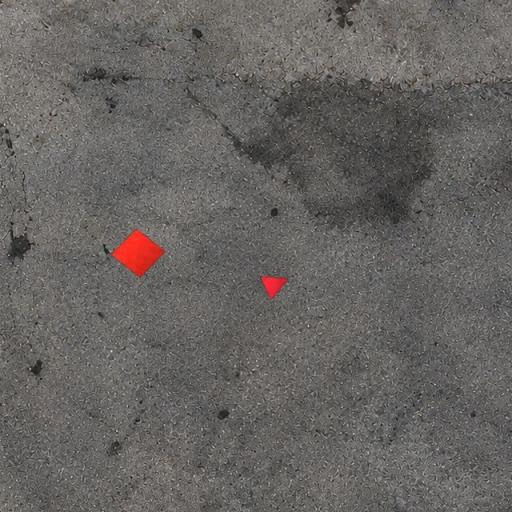RED_SQUARE: (110, 228, 166, 278)
